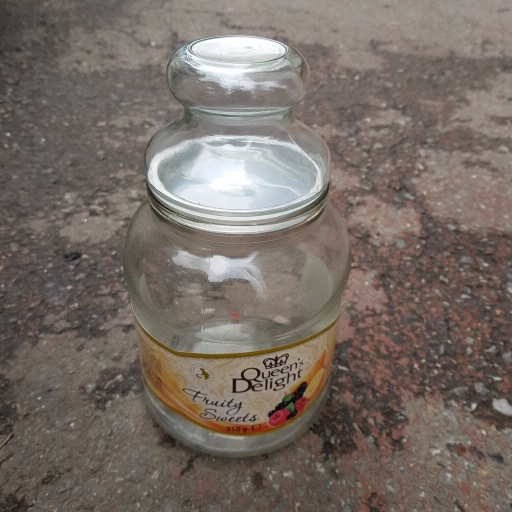Glass_5: (122, 34, 352, 450)
